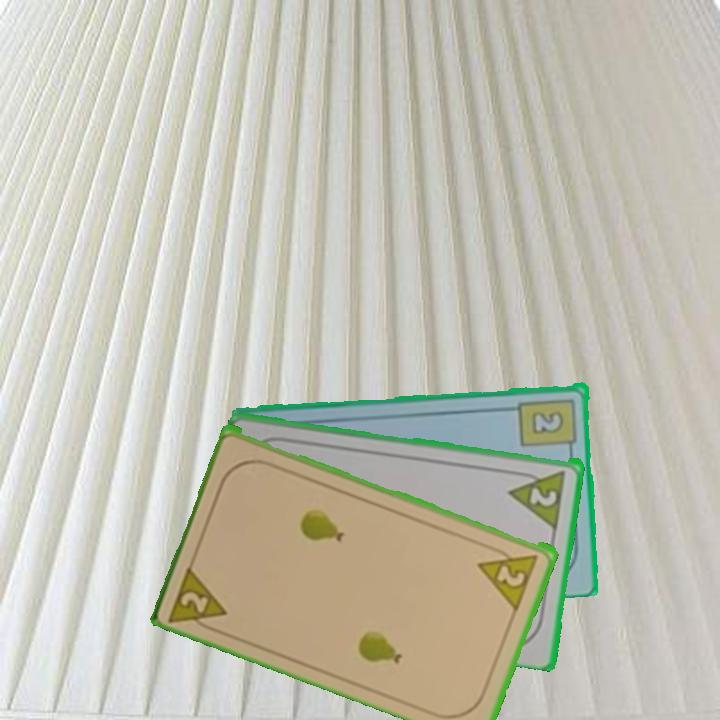2b: (516, 394, 580, 456)
2p: (165, 559, 231, 637), (475, 542, 542, 611), (506, 466, 569, 529)
